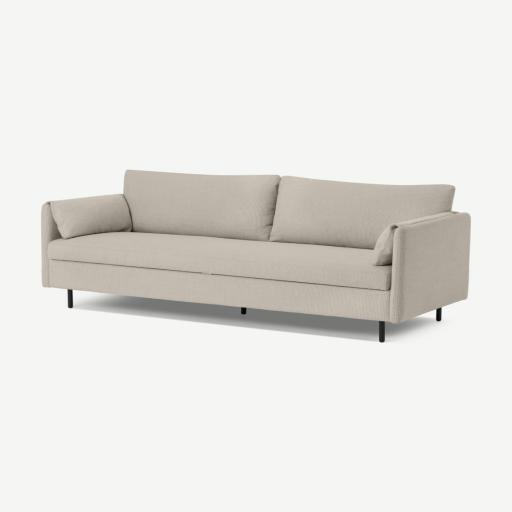back_cushion: (124, 171, 454, 249)
base: (50, 260, 389, 320)
left_arm: (388, 213, 470, 323)
legs: (379, 321, 385, 343), (67, 290, 73, 308), (436, 308, 442, 321), (241, 307, 246, 314)
right_arm: (42, 202, 61, 286)
seat_cushion: (47, 232, 390, 290)
two-seater: (0, 0, 511, 512)
